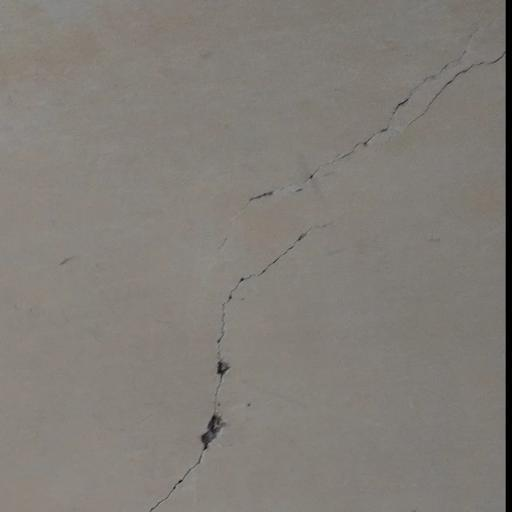minor_crack: (151, 225, 324, 512), (235, 42, 512, 214)
